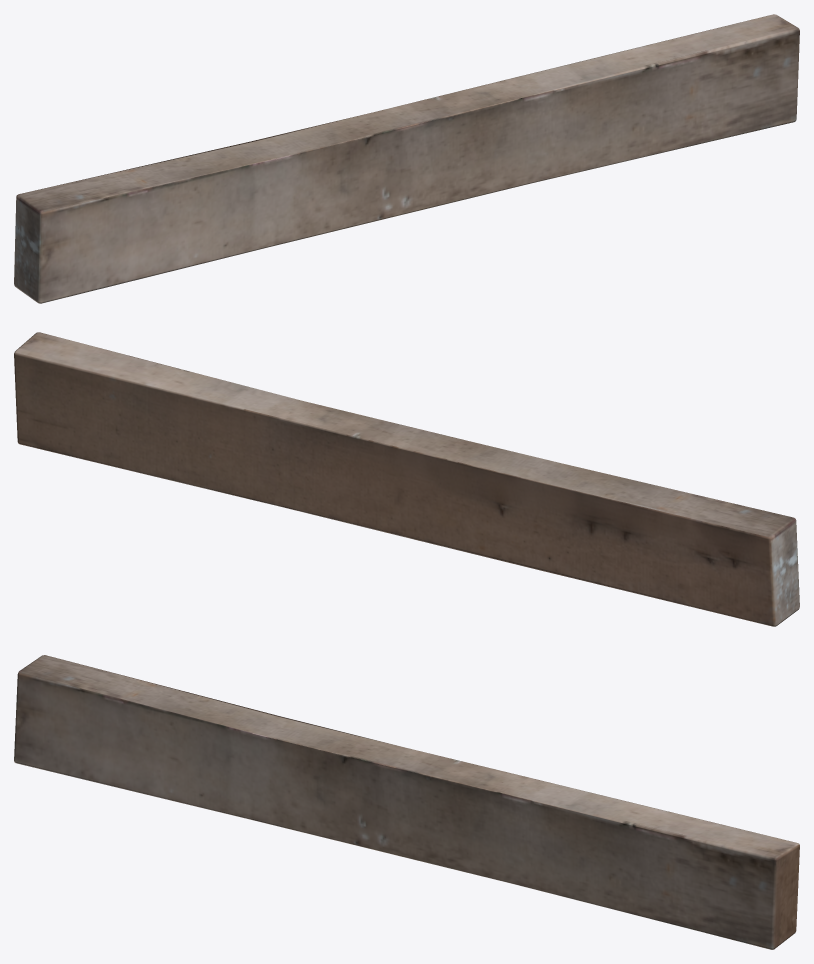
File: sm_WoodPallet_01_12.fbx
The picture shows the model from 3 angles, top to bottom: view 1: azimuth 30°, elevation 25°; view 2: azimuth 150°, elevation 25°; view 3: azimuth 330°, elevation 25°; orthographic projection.
Parts seen in each view (by area): view 1: sm_WoodPallet_01_12_LOD0; view 2: sm_WoodPallet_01_12_LOD0; view 3: sm_WoodPallet_01_12_LOD0.
Part boxes in pixels (box(x1,y1,x2,y2)): sm_WoodPallet_01_12_LOD0: box(14, 14, 799, 303); sm_WoodPallet_01_12_LOD0: box(14, 332, 799, 626); sm_WoodPallet_01_12_LOD0: box(14, 655, 799, 949).
Size of the model in its own units: 5.37 by 85.59 by 10.11.
